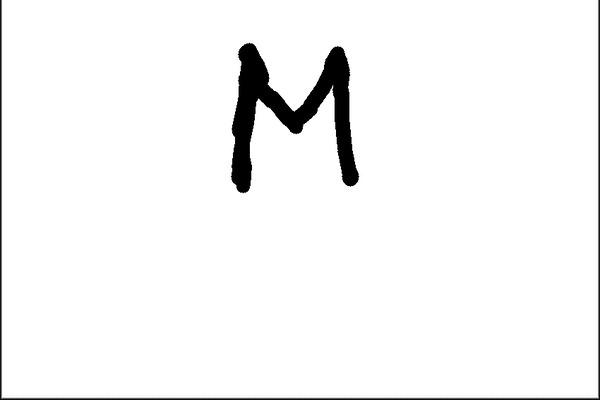M: (227, 36, 367, 196)
